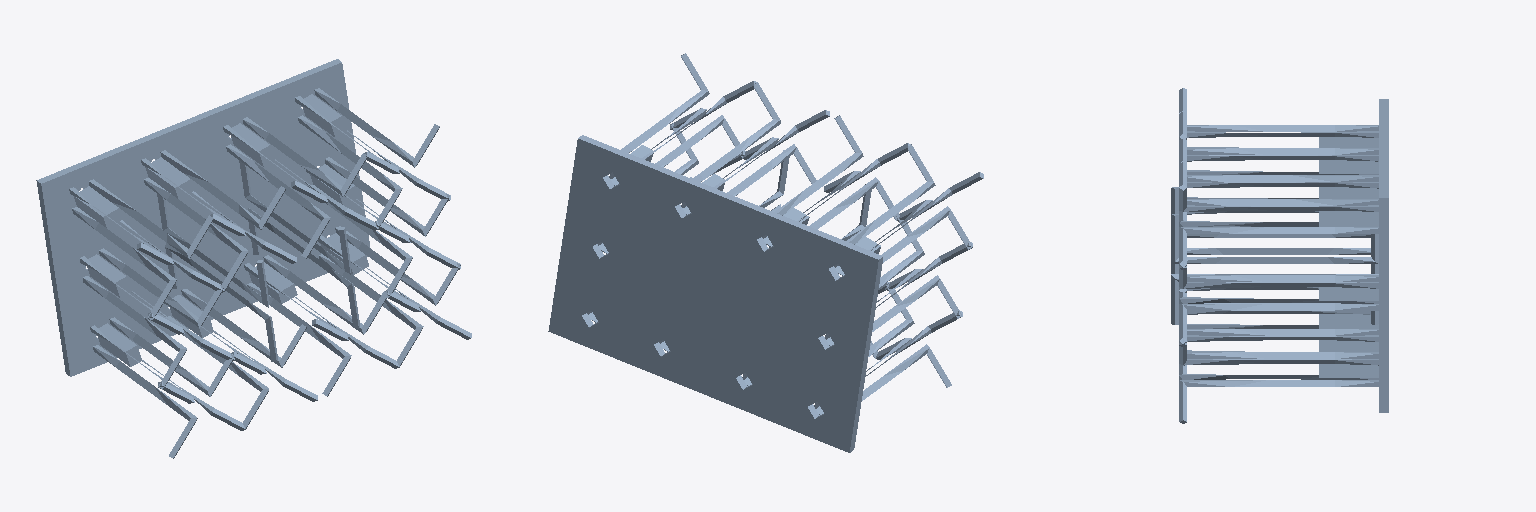
The picture shows the model from 3 angles: view 1: azimuth 30°, elevation 25°; view 2: azimuth 150°, elevation 25°; view 3: azimuth 270°, elevation 25°; orthographic projection.
Parts seen in each view (by area): view 1: g[number redacted]_1; view 2: g[number redacted]_1; view 3: g[number redacted]_1.
Part boxes in pixels (left/top/right/bottom): g[number redacted]_1: left=36, top=59, right=471, bottom=458; g[number redacted]_1: left=548, top=53, right=983, bottom=452; g[number redacted]_1: left=1171, top=88, right=1388, bottom=423.
Size of the model in its own units: 96.66 by 74.89 by 54.4.